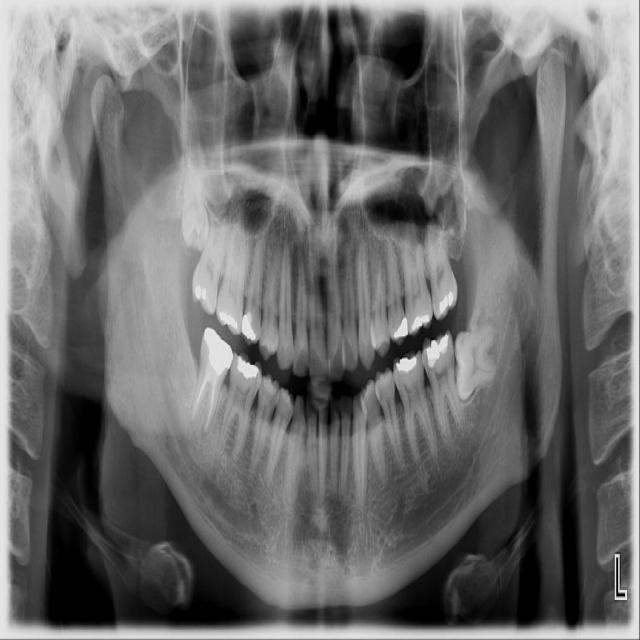Crown: (200, 327, 233, 383)
Filling: (427, 334, 448, 368), (237, 355, 258, 378), (242, 313, 256, 341), (219, 312, 237, 330), (395, 357, 417, 371), (413, 314, 430, 332), (394, 318, 408, 338), (441, 295, 448, 315), (448, 291, 453, 308), (195, 285, 201, 299), (202, 288, 206, 300)
Root Canal Treatment: (189, 372, 212, 422), (205, 380, 214, 428)
impacted tooth: (454, 320, 501, 401), (181, 144, 211, 253)
